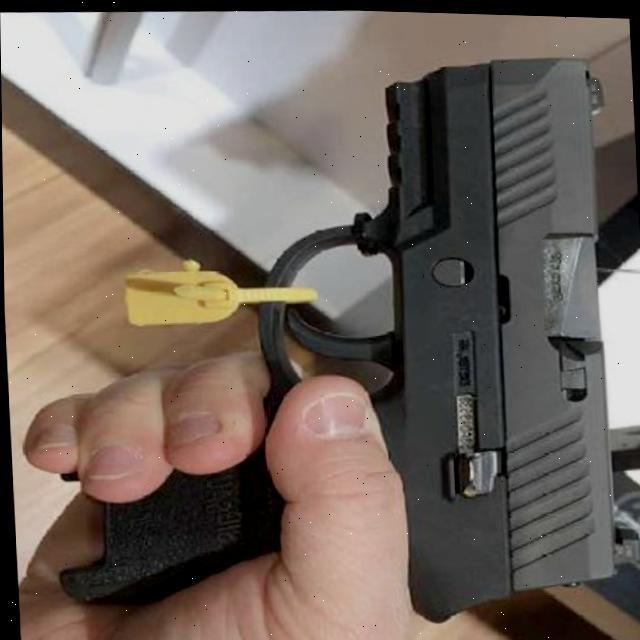gun: (30, 37, 640, 639)
